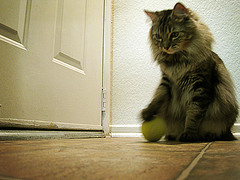tennis ball: (141, 114, 168, 143)
